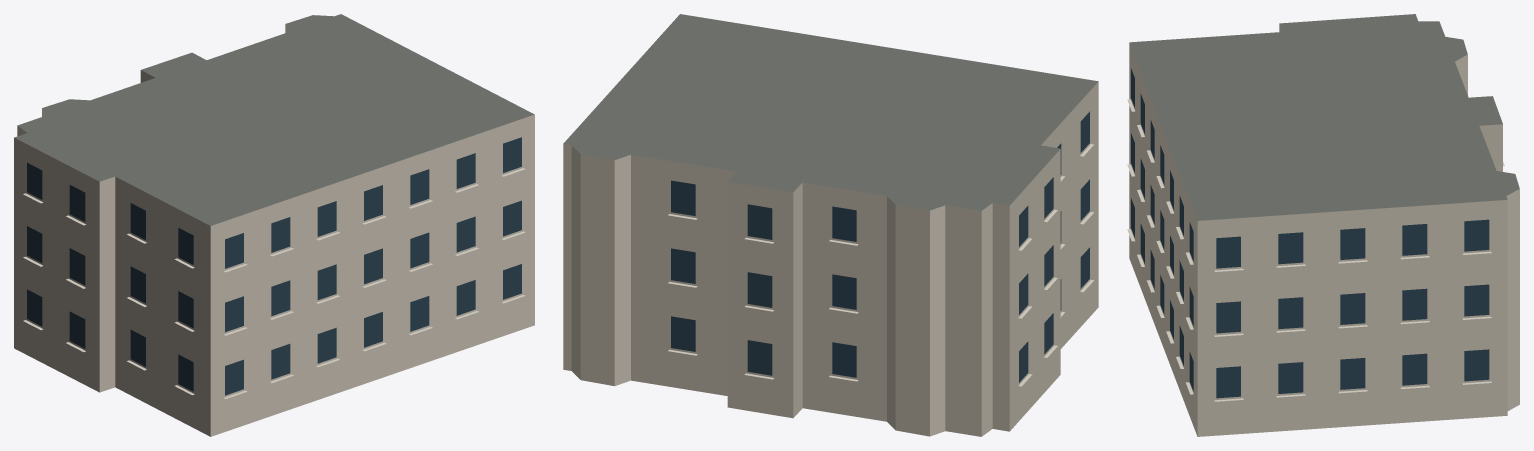
3 views of the same model, side by side, from view 1: azimuth 30°, elevation 25°; view 2: azimuth 150°, elevation 25°; view 3: azimuth 270°, elevation 25° (orthographic). The views are drawn at different scales.
Visible parts, largest first — view 1: Footprint 0, Inferred window bays, Window sills; view 2: Footprint 0, Inferred window bays, Window sills; view 3: Footprint 0, Inferred window bays, Window sills.
Part boxes in pixels (left/top/right/bottom): Footprint 0: left=14, top=14, right=534, bottom=436; Inferred window bays: left=27, top=137, right=521, bottom=395; Window sills: left=23, top=168, right=525, bottom=398; Footprint 0: left=563, top=14, right=1098, bottom=436; Inferred window bays: left=671, top=111, right=1089, bottom=382; Window sills: left=668, top=144, right=1094, bottom=386; Footprint 0: left=1129, top=14, right=1519, bottom=436; Inferred window bays: left=1131, top=68, right=1489, bottom=398; Window sills: left=1127, top=99, right=1504, bottom=401.
Size of the model in its own units: 24.32 by 11.75 by 19.36.
